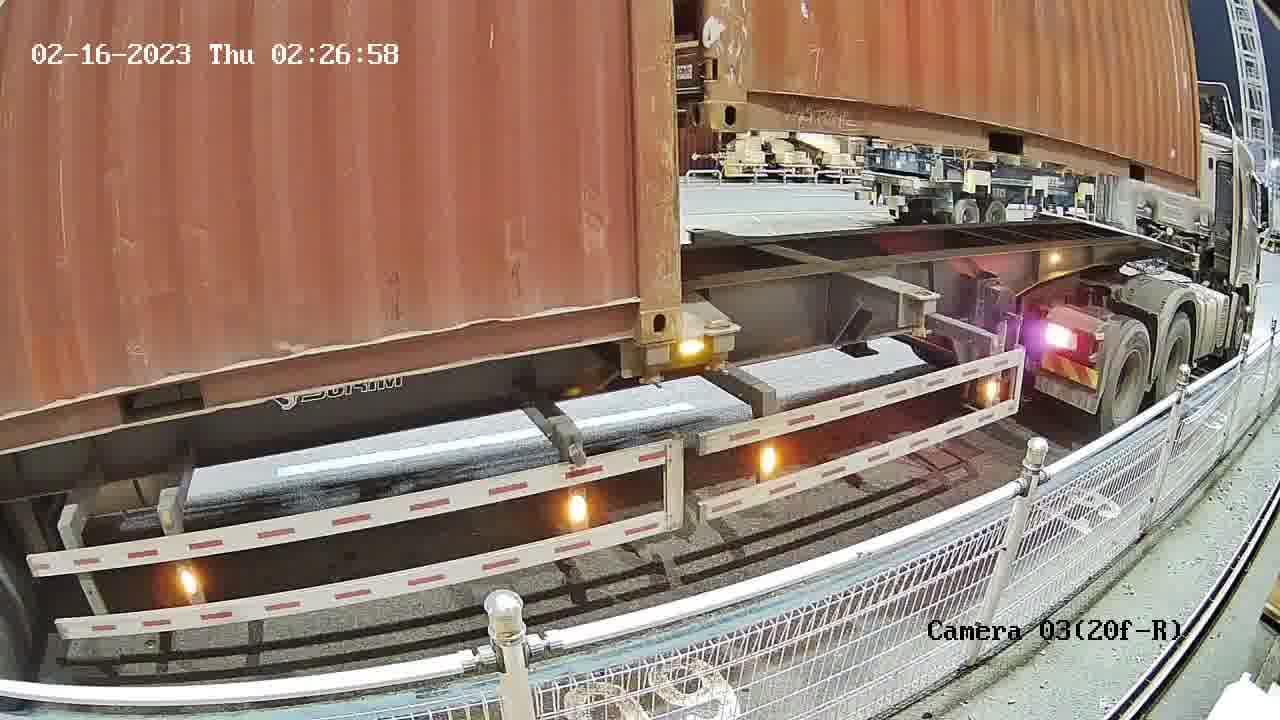Chassis: (687, 224, 939, 299)
Cone: (697, 315, 735, 380), (636, 343, 676, 390)
Hole_L: (714, 61, 792, 134)
Hole_R: (610, 268, 683, 347), (678, 60, 712, 130)
